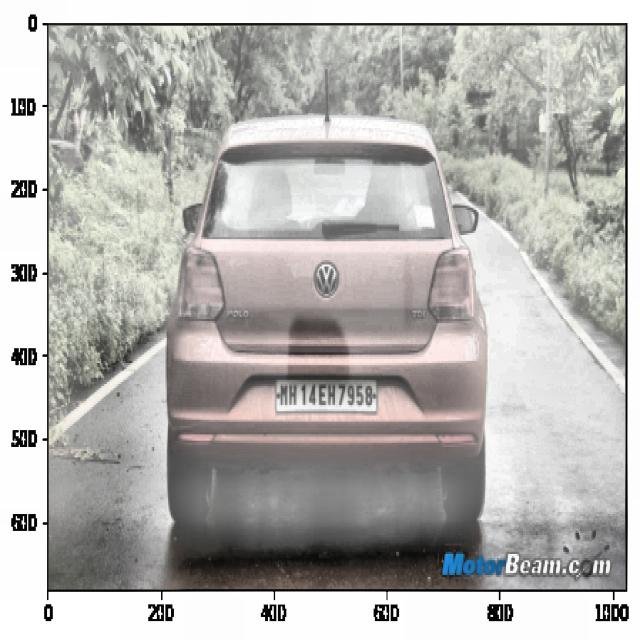license_plate: (274, 378, 379, 415)
